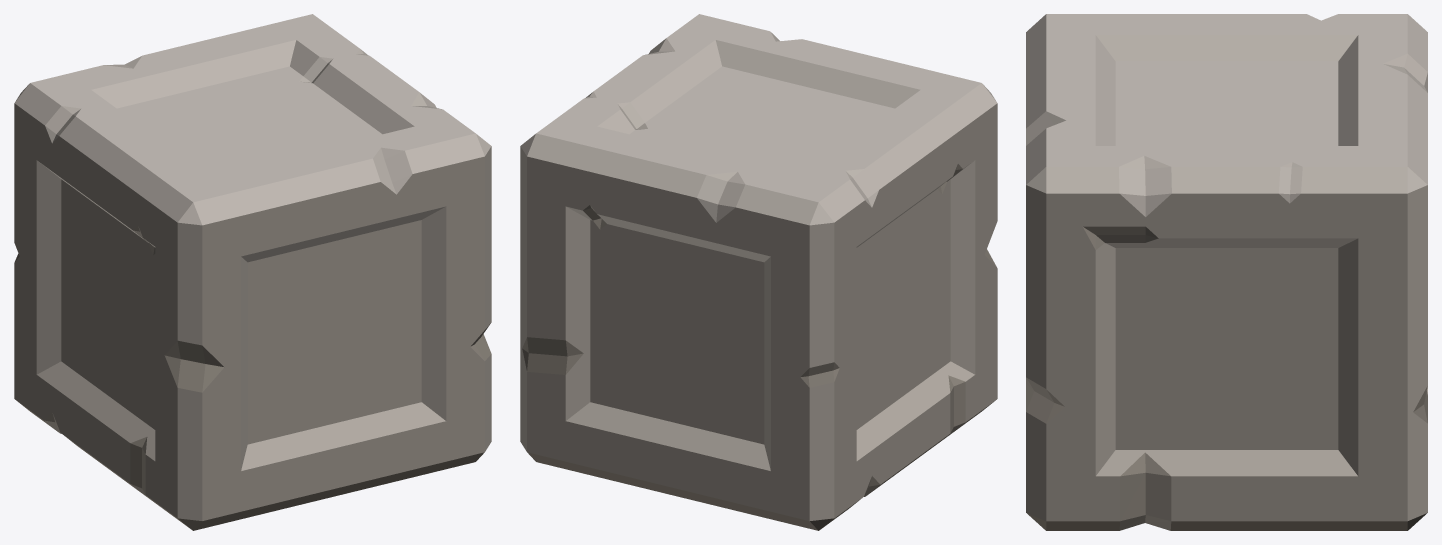
Rendered from m_deco_pillarSquareA_old.FBX.
The picture shows the model from 3 angles, left to right: view 1: azimuth 30°, elevation 25°; view 2: azimuth 150°, elevation 25°; view 3: azimuth 270°, elevation 25°; orthographic projection. The views are drawn at different scales.
Visible parts, largest first — view 1: m_deco_pillarSquareA_old; view 2: m_deco_pillarSquareA_old; view 3: m_deco_pillarSquareA_old.
Part boxes in pixels (box(x1,y1,x2,y2)): m_deco_pillarSquareA_old: box(14, 14, 491, 530); m_deco_pillarSquareA_old: box(520, 14, 997, 530); m_deco_pillarSquareA_old: box(1026, 14, 1427, 530).
Size of the model in its own units: 2 by 2 by 2.
